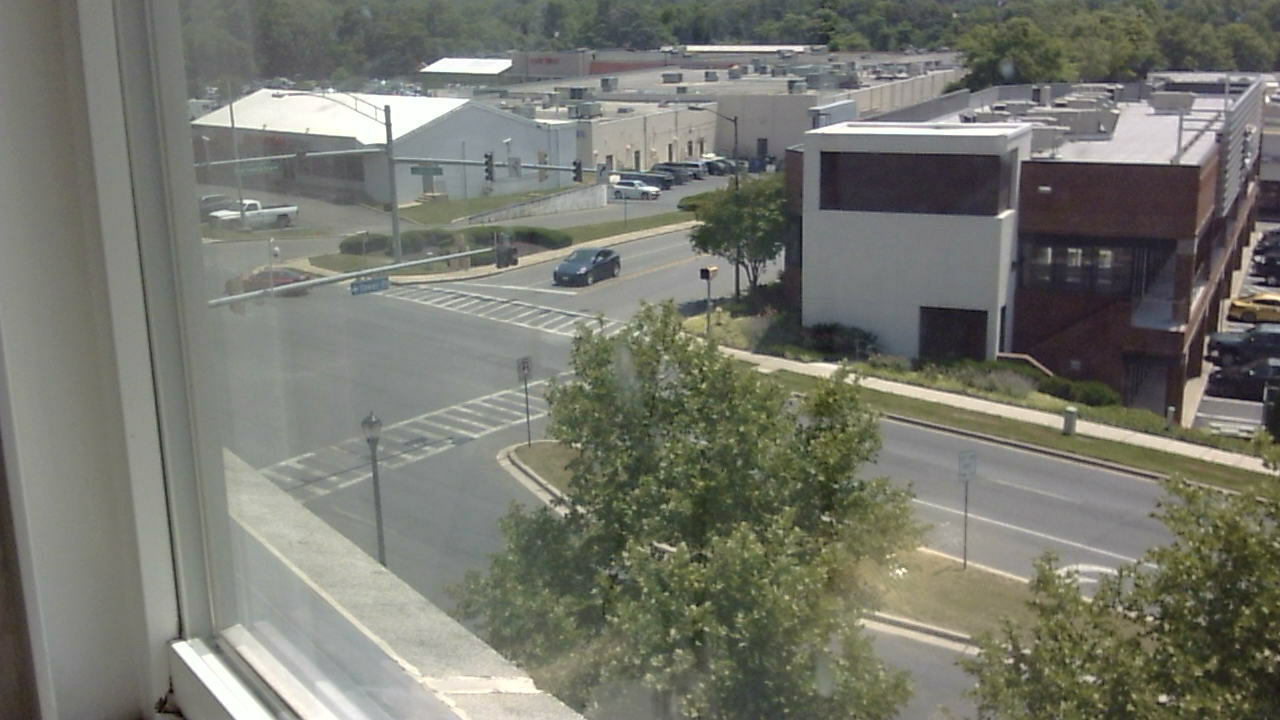Car: (549, 228, 637, 306), (616, 168, 669, 223)
Truck: (206, 183, 306, 241)
